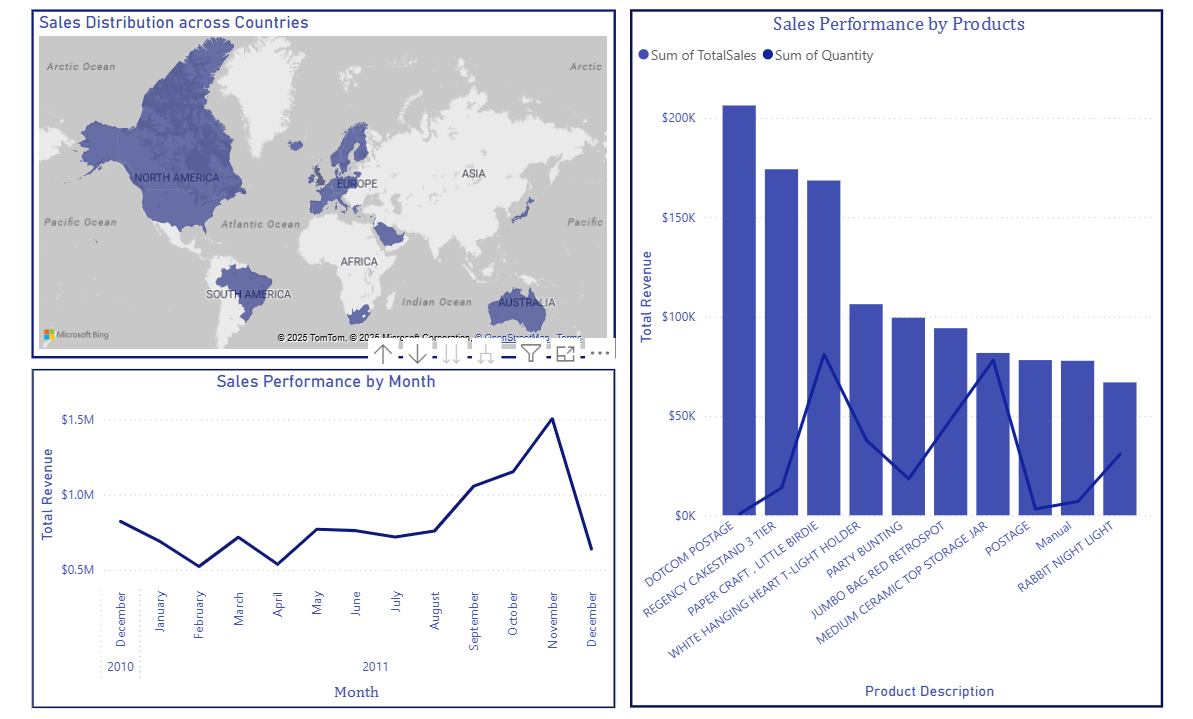

The page's visual inventory and layout, read from the dashboard file:
{"tool":"powerbi","page":{"name":"Sales Performance","canvas":[1280,720],"ordinal":2},"visuals":[{"type":"treemap","title":"Sales Distribution across Countries","fields":{"Group":["Cleaned_data.Country"],"Values":["Sum(Cleaned_data.TotalSales)"]},"box":[123.5,20.6,572.2,341.7],"z":0},{"type":"actionButton","box":[0,0,100,40],"z":1000},{"type":"lineStackedColumnComboChart","title":"Sales Performance by Products","fields":{"Category":["Cleaned_data.Description"],"Y":["Sum(Cleaned_data.TotalSales)"],"Y2":["Sum(Cleaned_data.Quantity)"]},"box":[709.4,20.6,521.4,683.4],"z":2000},{"type":"lineChart","title":"Sales Performance by Month","fields":{"Y":["Sum(Cleaned_data.TotalSales)"],"Category":["Cleaned_data.InvoiceDate.Variation.Date Hierarchy.Year","Cleaned_data.InvoiceDate.Variation.Date Hierarchy.Month"]},"box":[123.5,371.9,572.2,333.4],"z":3000}]}

Visuals, with their boxes on the page's 1280x720 design canvas (x1, y1, x2, y2). These are canvas units, not pixel positions in the 1193x719 screenshot, which may show the page scaled, cropped or inside an application window:
"Sales Distribution across Countries" treemap: box=[124, 21, 696, 362]
actionButton: box=[0, 0, 100, 40]
"Sales Performance by Products" lineStackedColumnComboChart: box=[709, 21, 1231, 704]
"Sales Performance by Month" lineChart: box=[124, 372, 696, 705]
